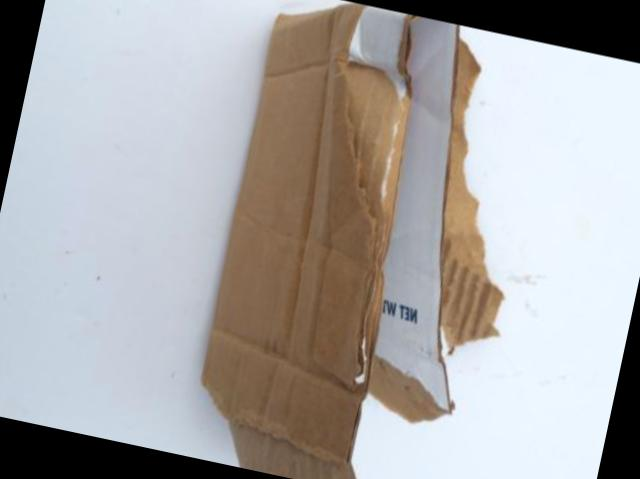cardboard paper: (204, 2, 503, 479)
